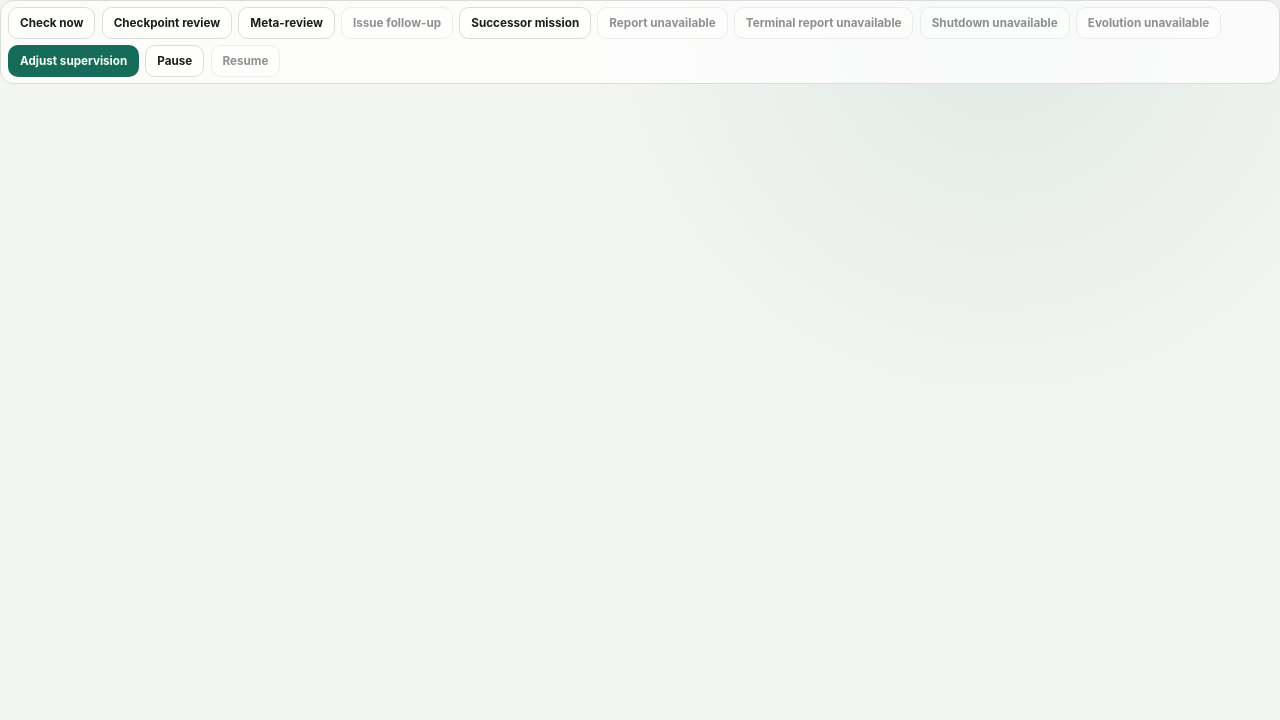
Factory workflow action strips › previews one same-target successor with direct-source review and no task claim
This screenshot has width=1280, height=720.
Click the button "Successor mission": coordinates (525, 23) [460, 7, 591, 39]
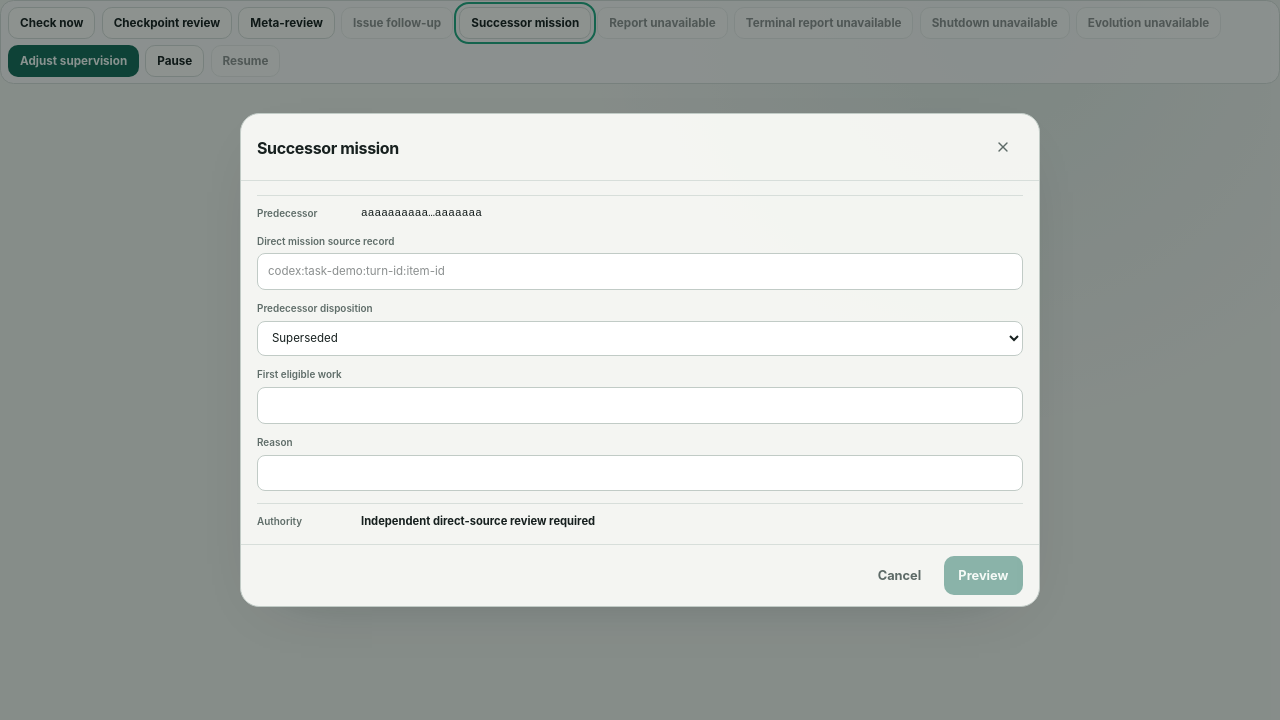
Expected: the dialog "Successor mission" is shown, [240, 113, 1040, 607]
In the field labelled "Direct mission source record": coordinates (640, 272) [257, 253, 1023, 290], type "codex:task-demo:turn-source-002:item-source-002"
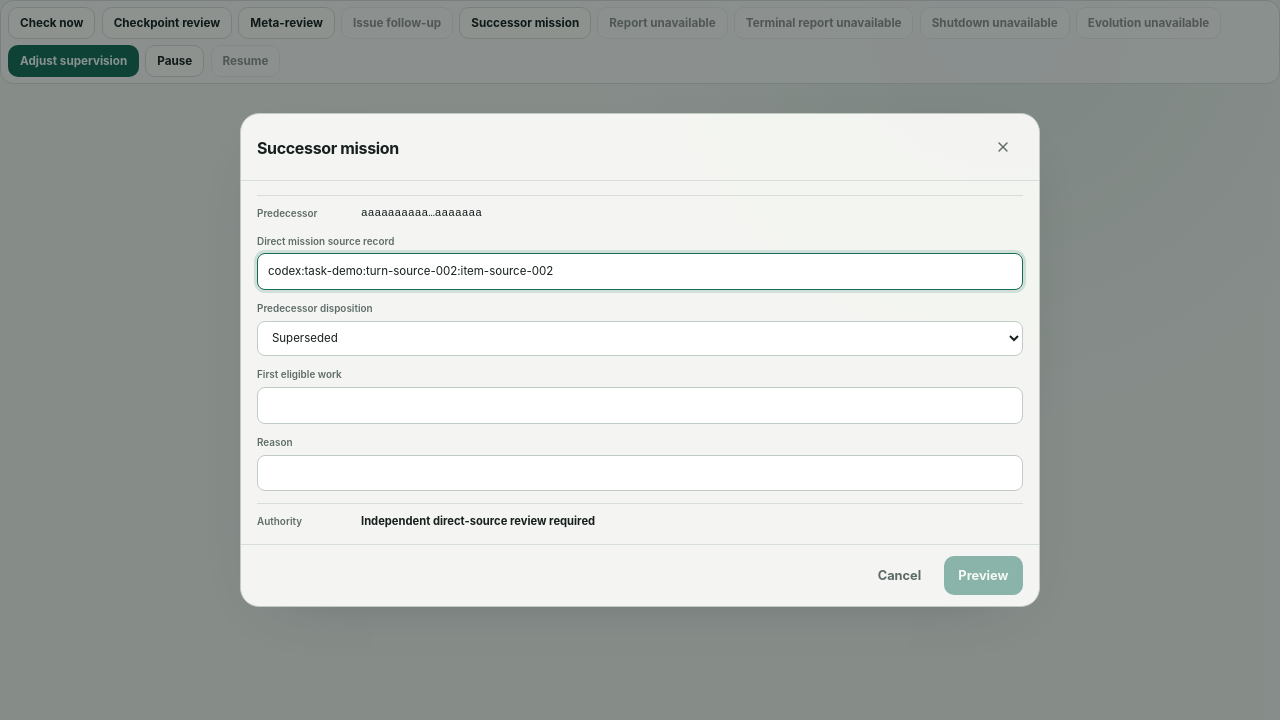
Select "Superseded" in the dropdown labelled "Predecessor disposition": coordinates (640, 338) [257, 321, 1023, 356]
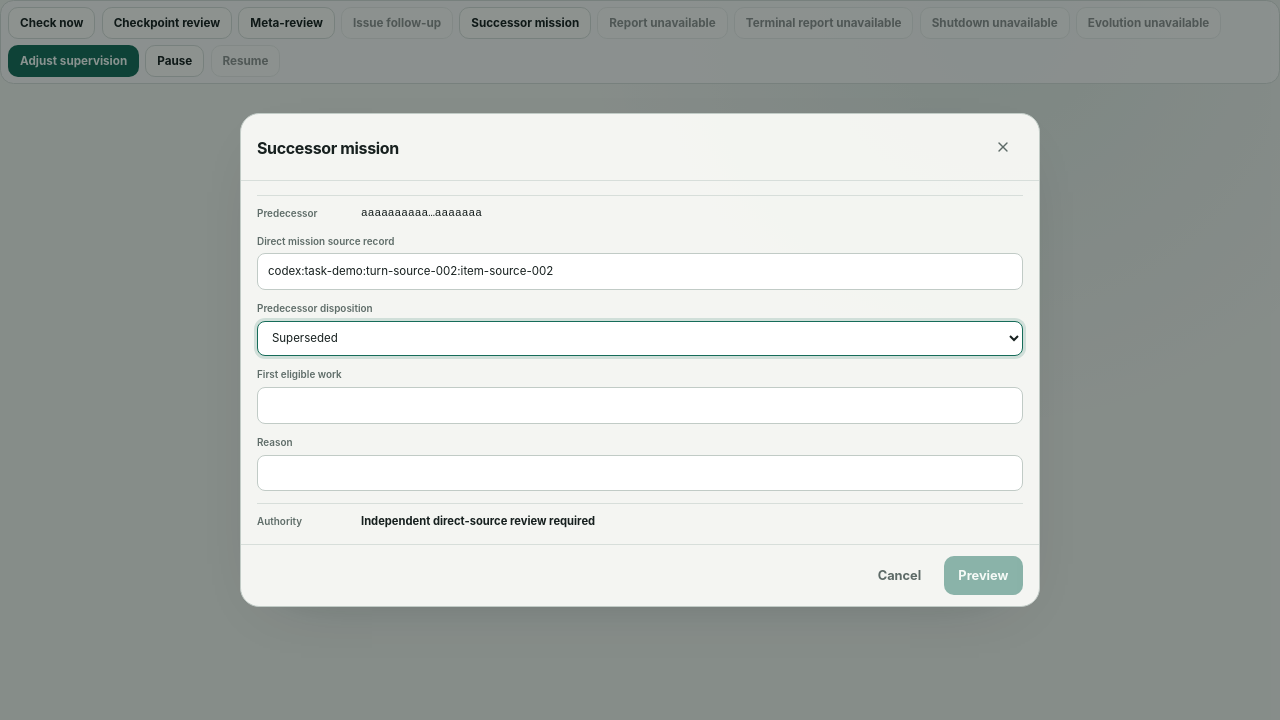
In the field labelled "First eligible work": coordinates (640, 405) [257, 387, 1023, 424], type "Block 0 capability review"
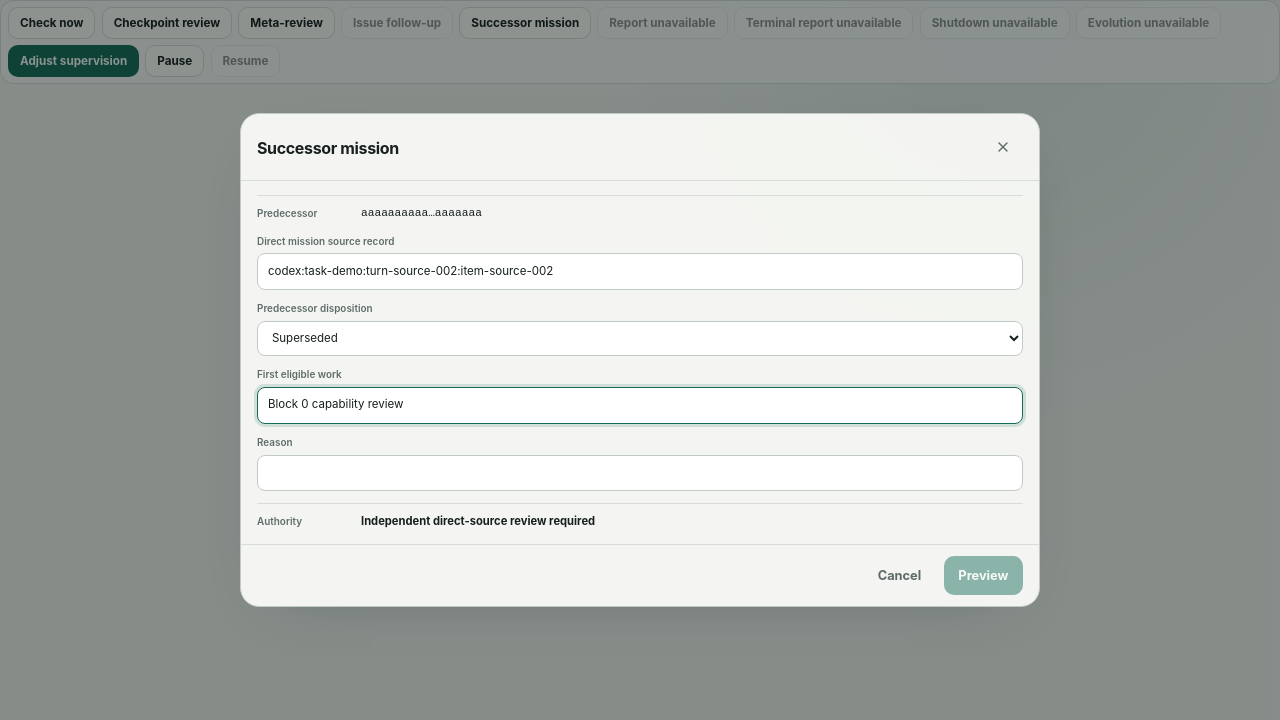
In the field labelled "Reason": coordinates (640, 473) [257, 455, 1023, 492], type "The direct user requested a materially different mission."
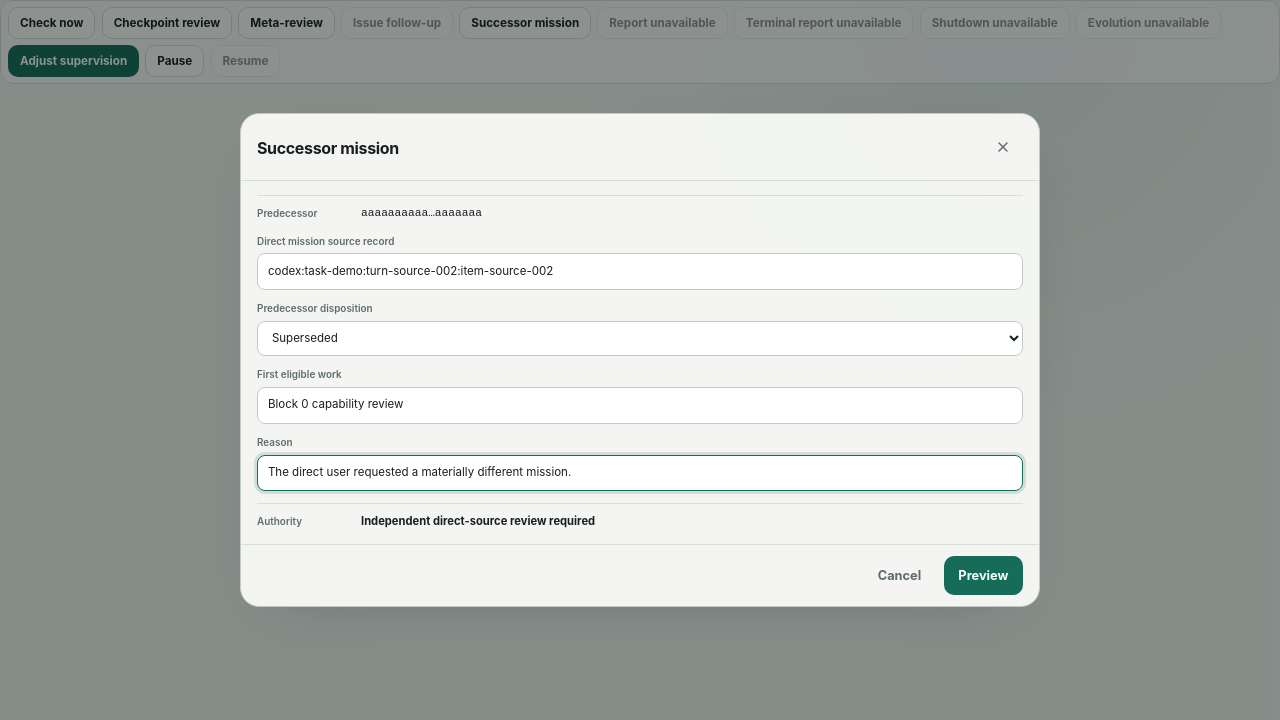
Click the button "Preview": coordinates (983, 575) [944, 556, 1023, 595]
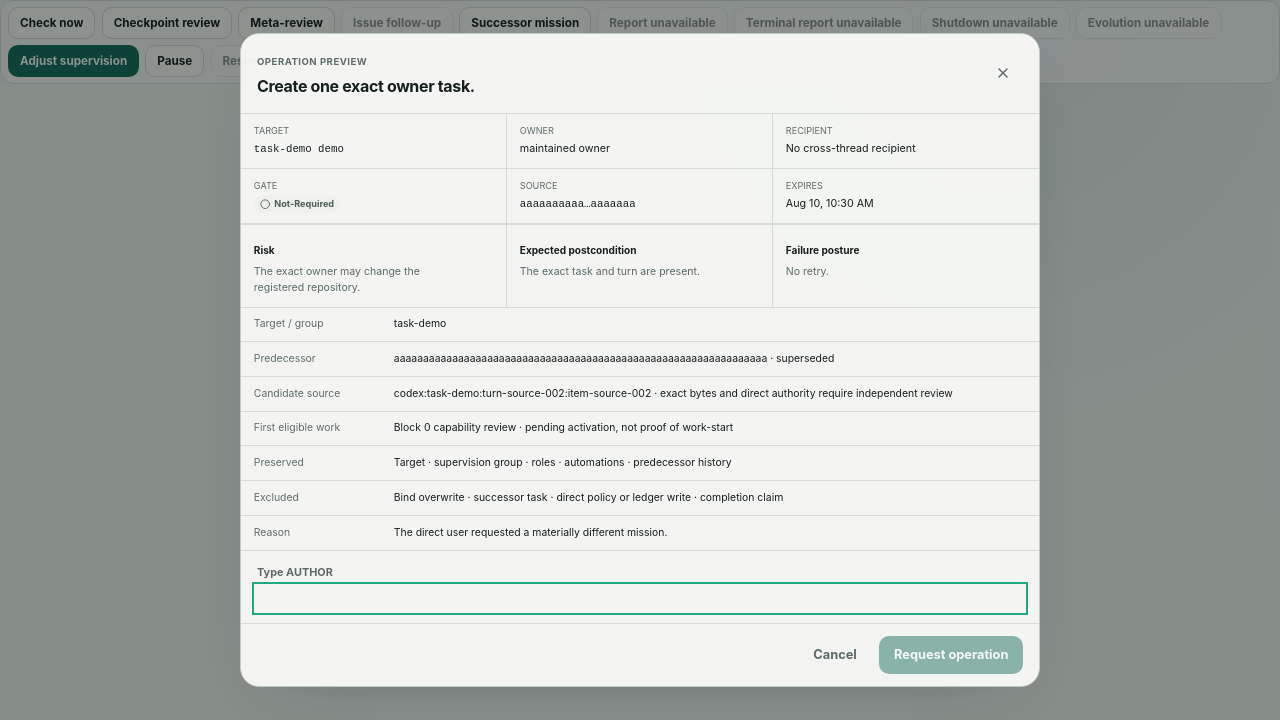
Expected: the text "exact bytes and direct authority require independent review" is shown, [394, 387, 953, 400]
Expected: the text "pending activation, not proof of work-start" is shown, [394, 422, 733, 434]
Expected: the text "Bind overwrite · successor task" is shown, [394, 491, 783, 504]
